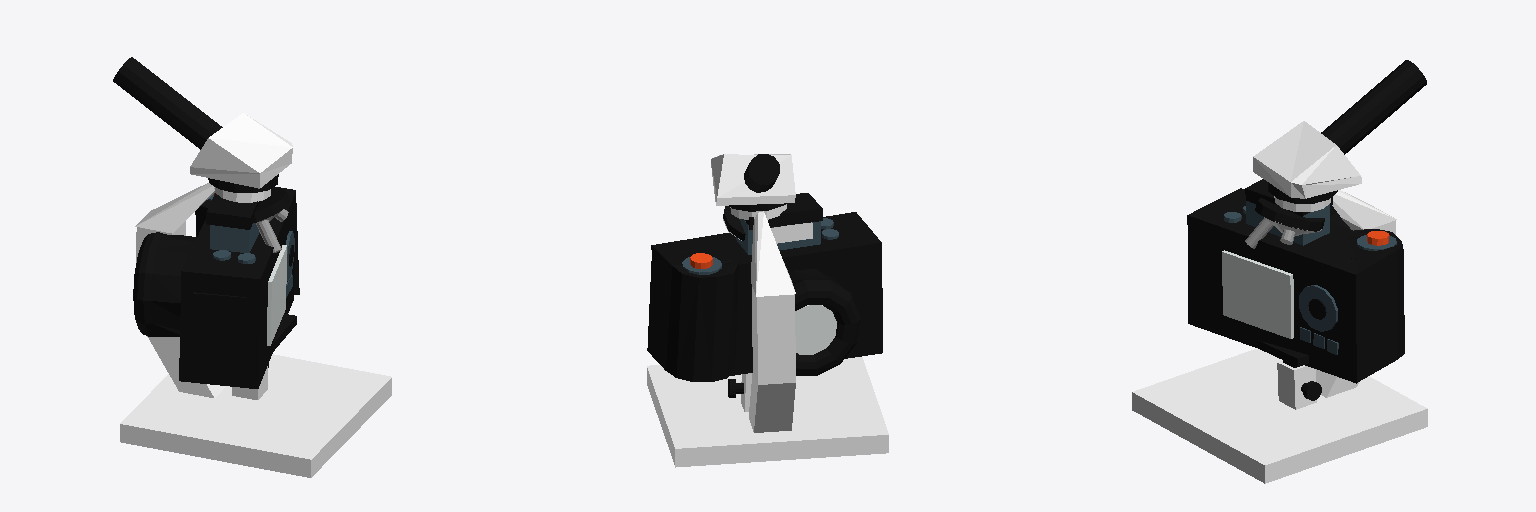
File: microscope.obj
The picture shows the model from 3 angles: view 1: azimuth 30°, elevation 25°; view 2: azimuth 150°, elevation 25°; view 3: azimuth 270°, elevation 25°; orthographic projection.
Parts seen in each view (by area): view 1: model.001; view 2: model.001; view 3: model.001.
Boxes of the visible parts, <box> form: model.001: <box>113,57,391,477</box>; model.001: <box>647,154,888,467</box>; model.001: <box>1132,60,1427,483</box>.
Size of the model in its own units: 1.48 by 1.81 by 1.47.